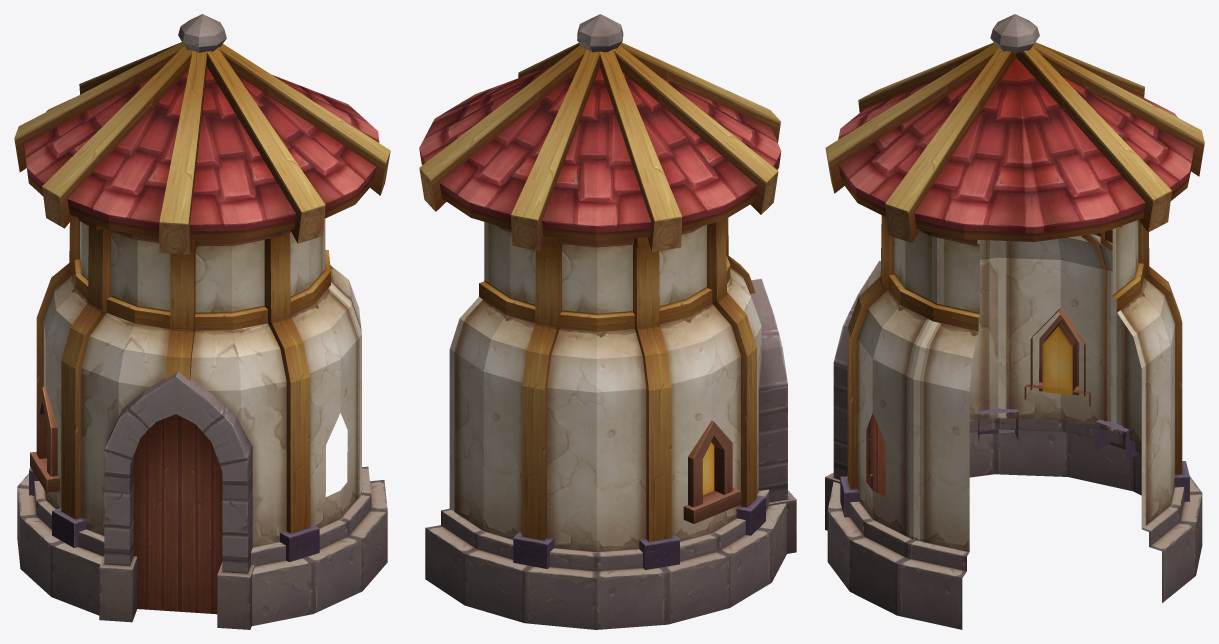
The model's file is caodi_fengche.fbx.
The picture shows the model from 3 angles, left to right: view 1: azimuth 30°, elevation 25°; view 2: azimuth 150°, elevation 25°; view 3: azimuth 270°, elevation 25°; orthographic projection.
Parts seen in each view (by area): view 1: caodi_fengche; view 2: caodi_fengche; view 3: caodi_fengche.
Boxes of the visible parts, x1,y1,x2,y2 form: caodi_fengche: [14, 14, 390, 629]; caodi_fengche: [419, 14, 796, 629]; caodi_fengche: [825, 14, 1204, 629].
Size of the model in its own units: 5.94 by 9.54 by 6.08.
